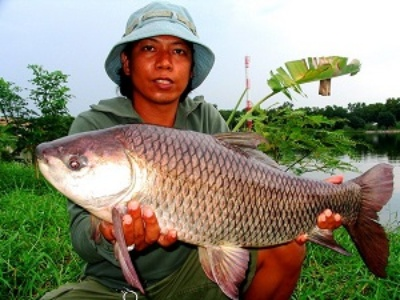rohu: (29, 123, 394, 278)
